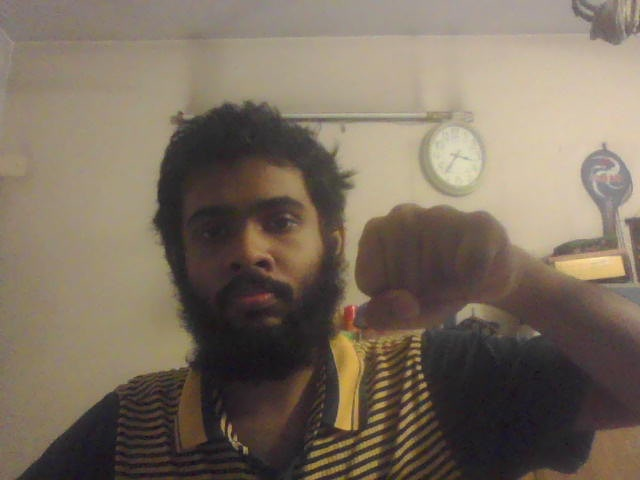Yes: (354, 202, 513, 330)
